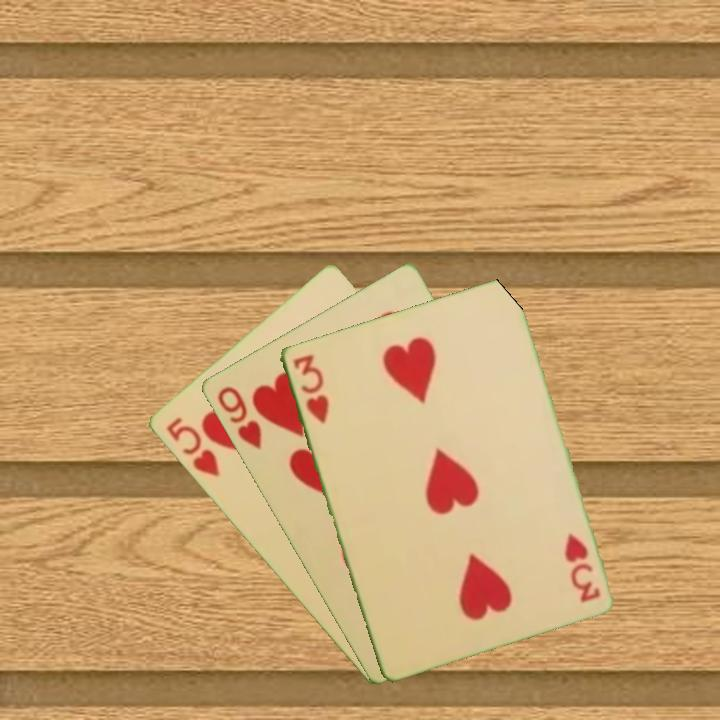3h: (289, 350, 332, 427), (560, 529, 603, 606)
5h: (162, 413, 222, 480)
9h: (213, 382, 264, 452)
